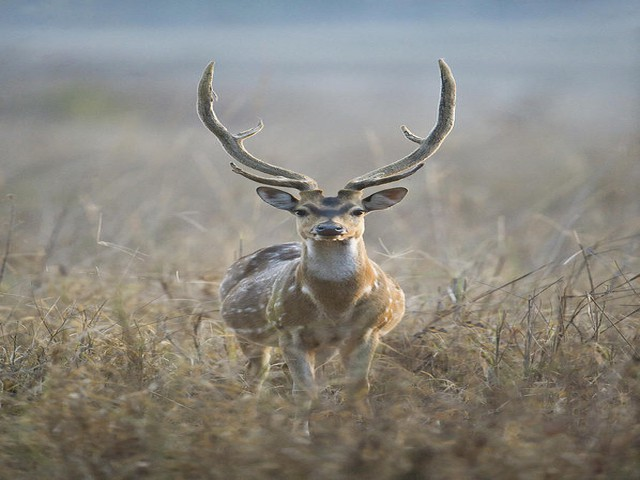deer: (190, 52, 473, 438)
